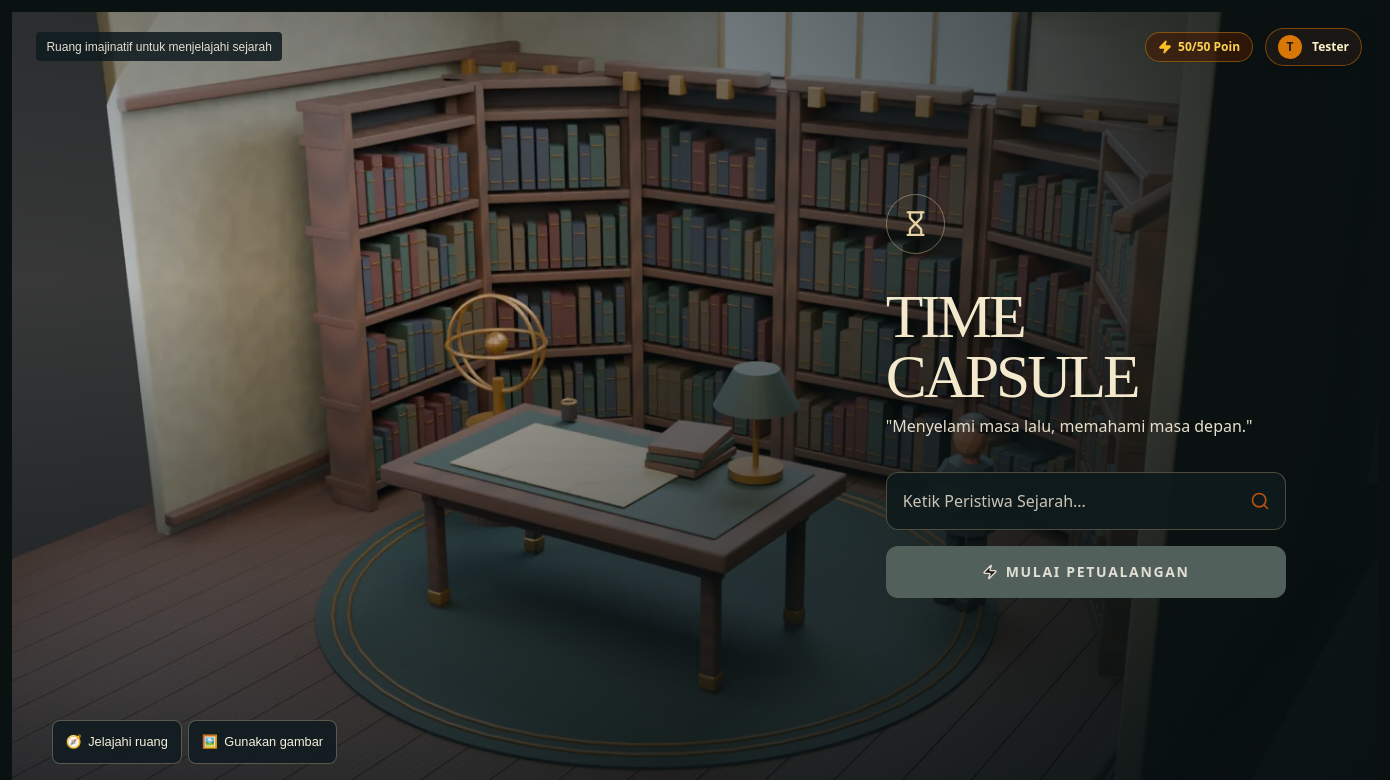
Scenario: App Component Integration › shows error message if fetchScenarioData fails
In the field with placeholder "Ketik Peristiwa Sejarah...": (1086, 501) [886, 472, 1286, 530], type "Error Topic"
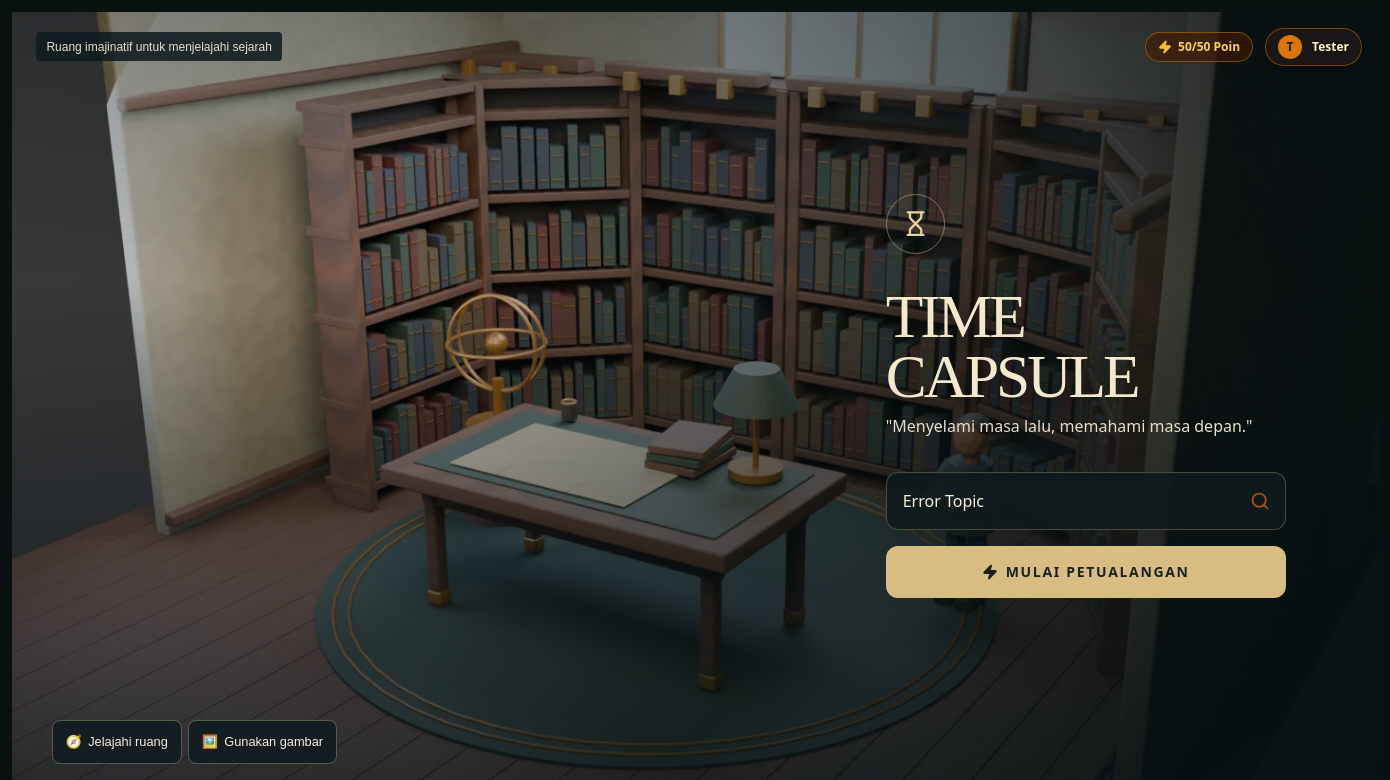
Click the button "Mulai Petualangan": (1086, 572) [886, 546, 1286, 598]
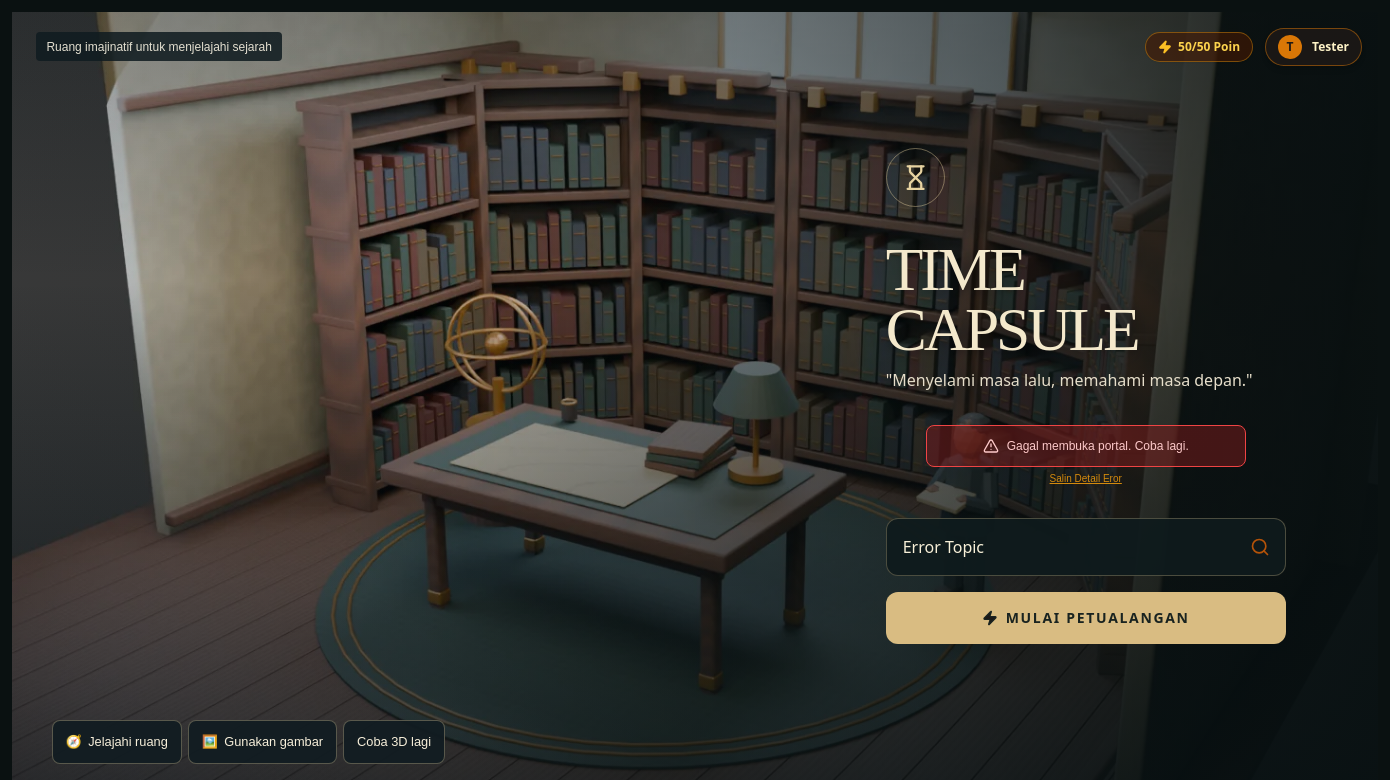
Expected: the text "Gagal membuka portal. Coba lagi." is shown, [926, 425, 1246, 467]
